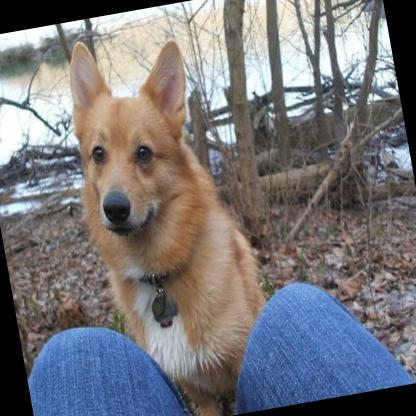Pembroke: (50, 14, 282, 416)
